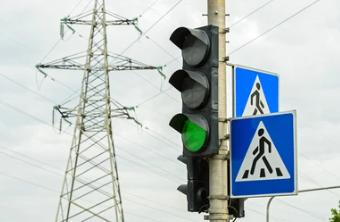green_light: (169, 25, 219, 156)
